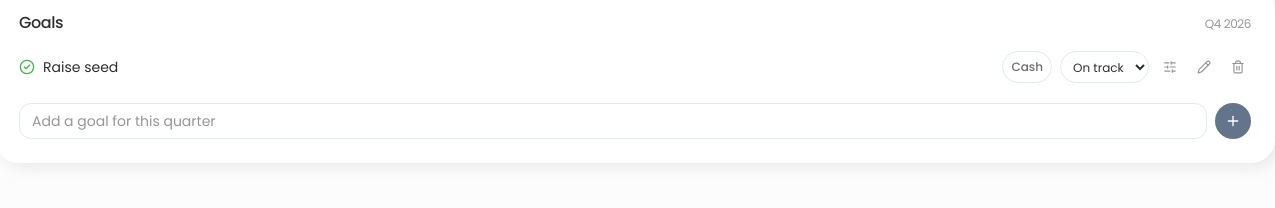
Scenario: GoalsPanel › a change that fails says why instead of failing silently
The width and height of the screenshot is (1275, 208).
Select "At risk" in the dropdown named "Status of Raise seed" at (1104,67), box [1060,51,1149,83]
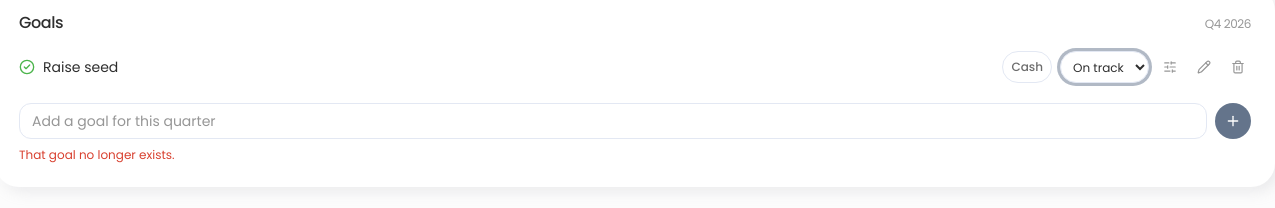
Expected: the message shows "no longer exists", [19,146,175,163]
